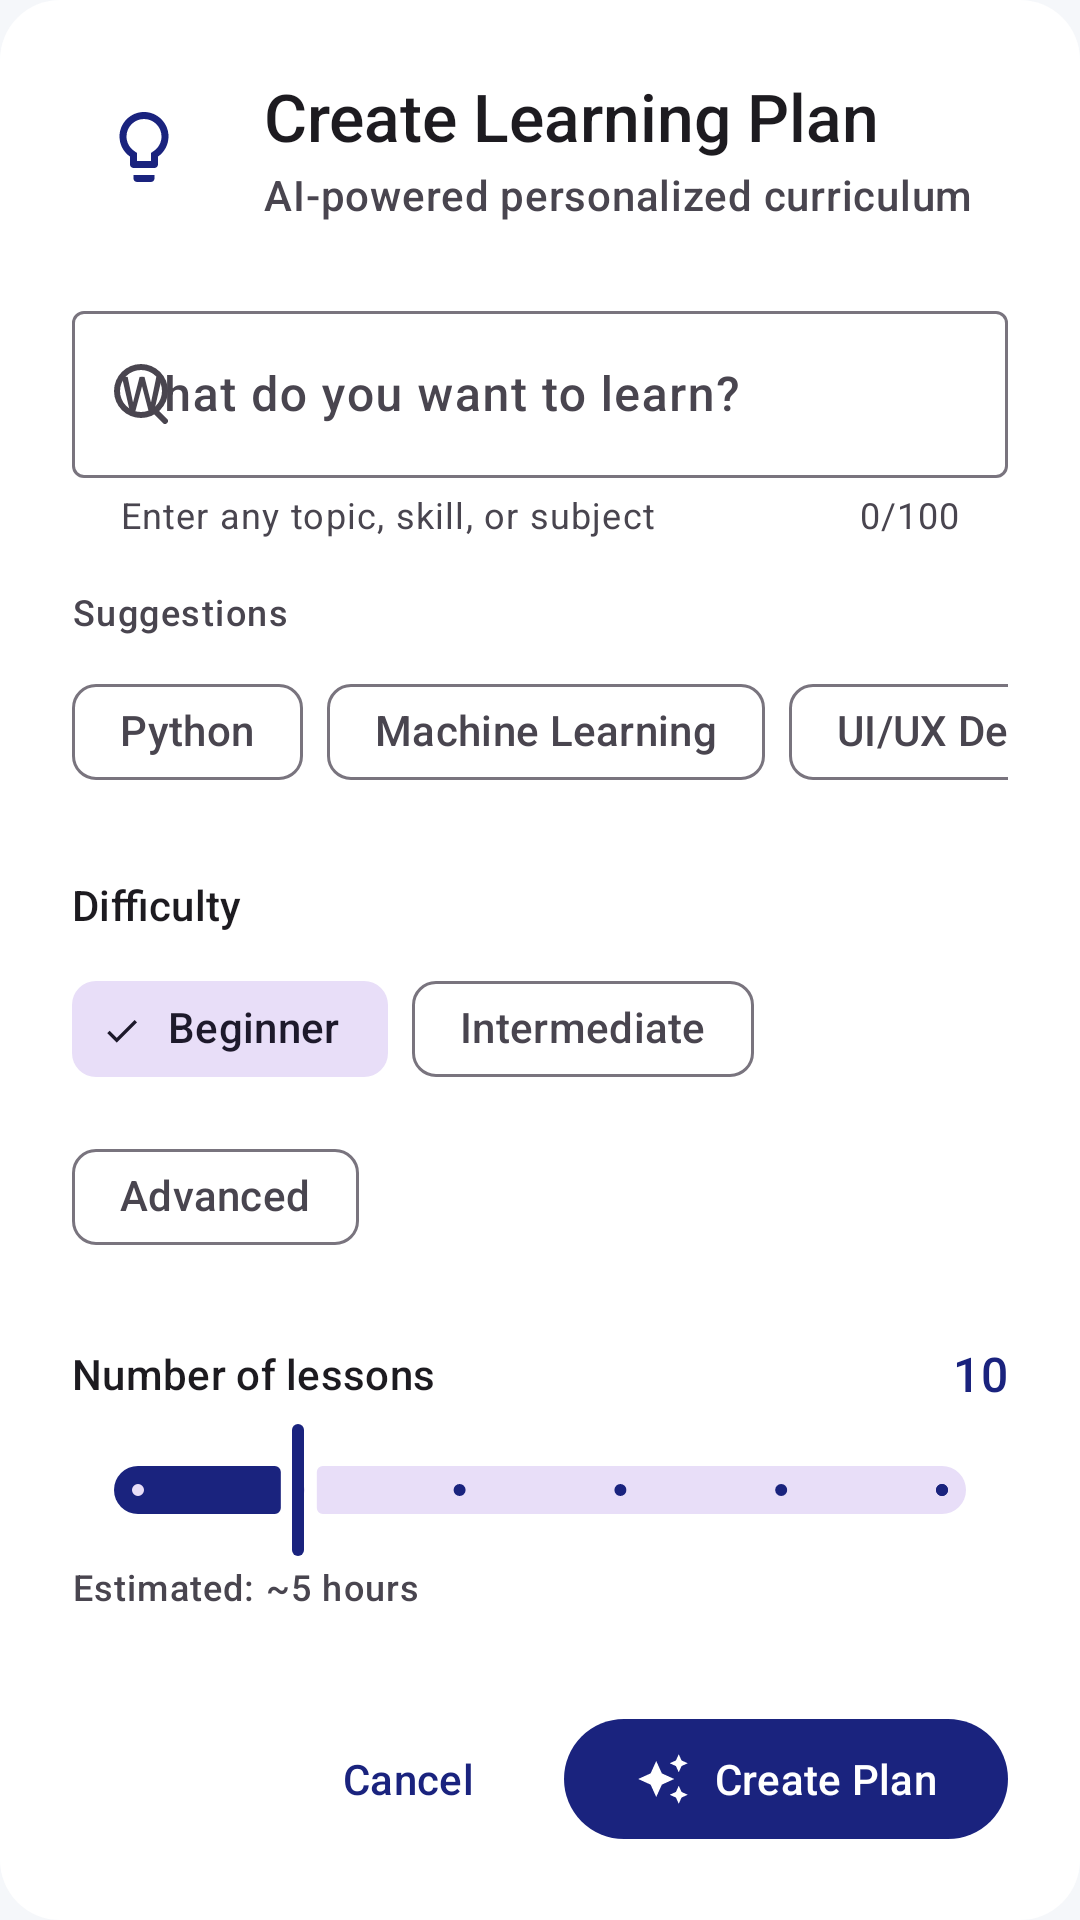

Icon bounding boxes for this 1080px×1920px phone screenshot, format (x1, y1, x2, y2):
lightbulb: (119, 112, 169, 182)
